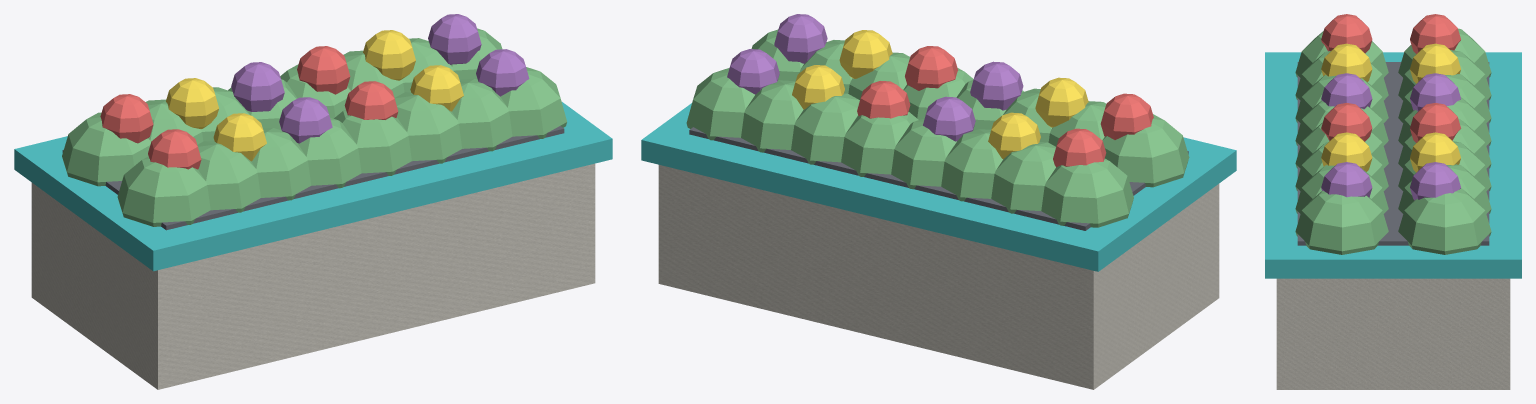
File: theme-park-rides-and-coasters-theme-park-rides-and-coa-890503cd__28702.glb
The picture shows the model from 3 angles, left to right: view 1: azimuth 30°, elevation 25°; view 2: azimuth 150°, elevation 25°; view 3: azimuth 270°, elevation 25°; orthographic projection. The views are drawn at different scales.
Visible parts, largest first — view 1: theme-park-rides-and-coasters-planter-bed; view 2: theme-park-rides-and-coasters-planter-bed; view 3: theme-park-rides-and-coasters-planter-bed.
Part boxes in pixels (bbox=[...]): theme-park-rides-and-coasters-planter-bed: bbox=[14, 14, 612, 389]; theme-park-rides-and-coasters-planter-bed: bbox=[641, 14, 1236, 389]; theme-park-rides-and-coasters-planter-bed: bbox=[1265, 14, 1521, 389].
Bounding box in the file's own units: 2.1 × 0.9501 × 1.1.
7 materials, 1 textured.
